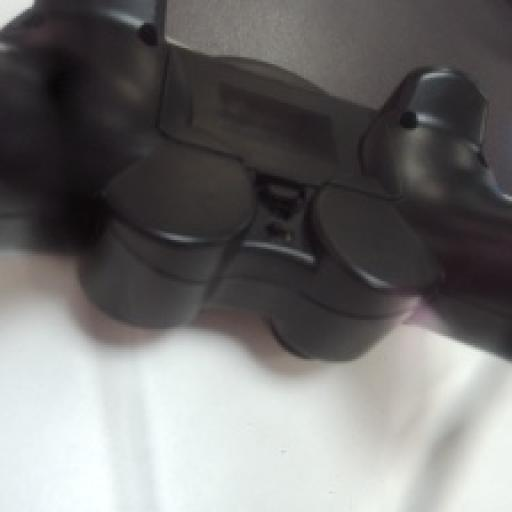game pad: (0, 0, 510, 357)
